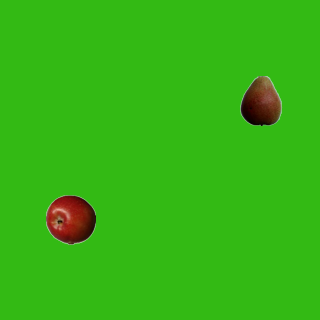Apple Braeburn: (45, 194, 95, 244)
Pear Forelle: (235, 75, 285, 125)
